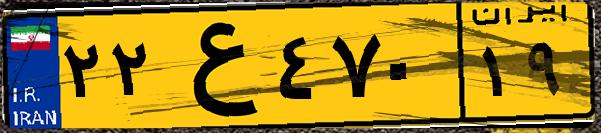0: (385, 28, 445, 110)
1: (475, 38, 525, 113)
2: (57, 26, 110, 100), (110, 28, 158, 98)
4: (270, 28, 330, 110)
7: (330, 28, 385, 110)
9: (525, 38, 570, 115)
ع: (158, 12, 270, 120)
